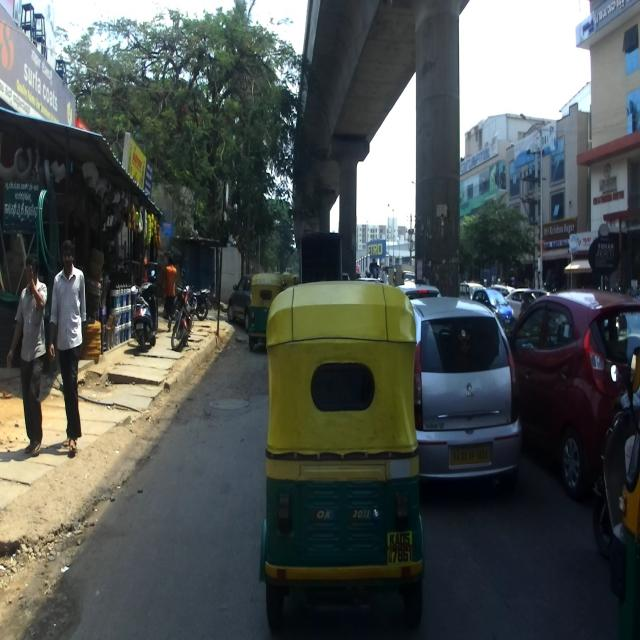Car_TATA: (409, 296, 526, 512)
autorickshaw: (256, 278, 427, 638)
motorcycle_bajaj: (170, 265, 198, 351)
scooter: (128, 265, 158, 351)
